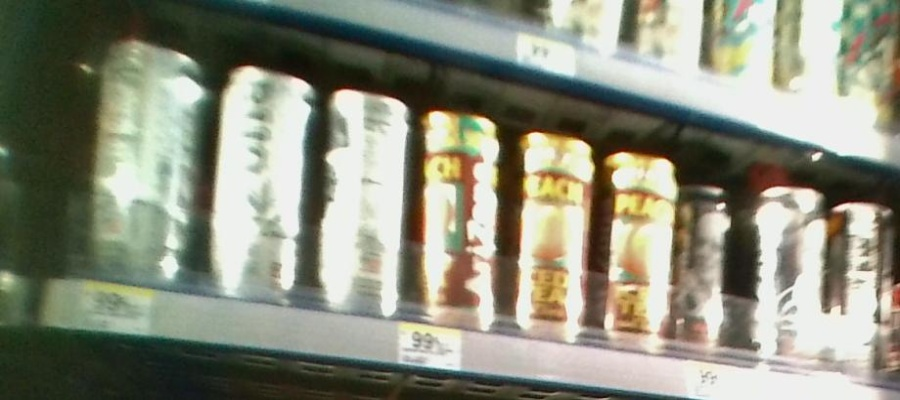bottle: (87, 27, 207, 296), (213, 44, 315, 312), (413, 91, 506, 334), (320, 68, 407, 322), (508, 111, 595, 343), (598, 133, 676, 354), (751, 177, 830, 375), (831, 188, 892, 378), (679, 176, 731, 362)
